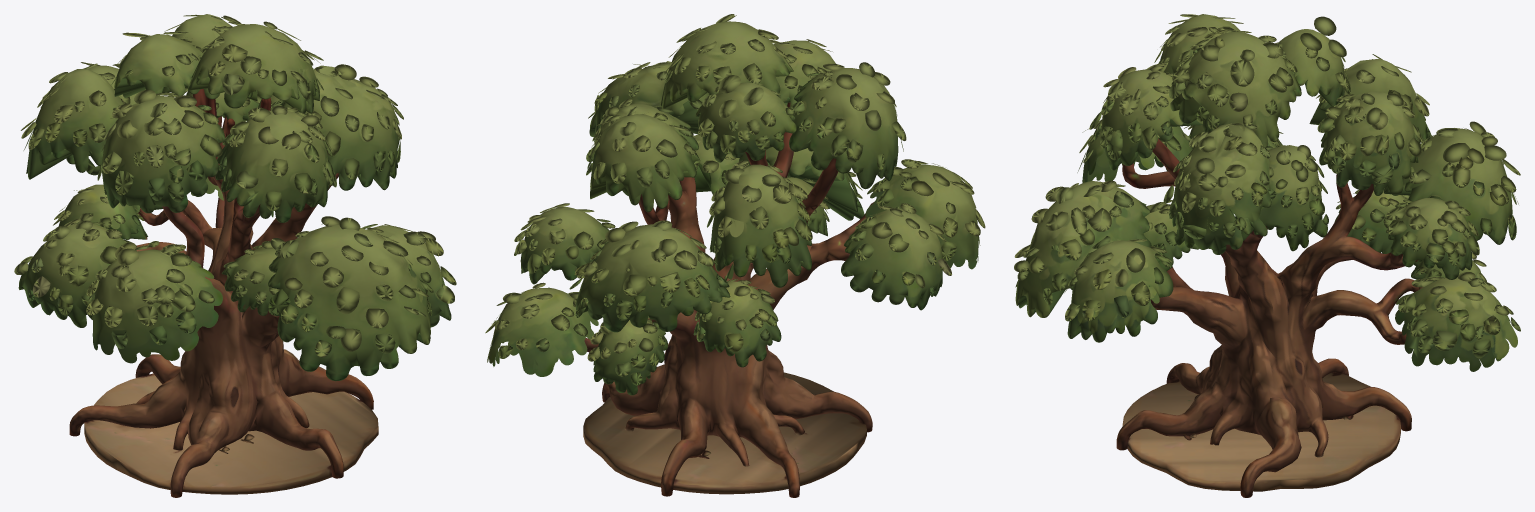
3 views of the same model, side by side, from view 1: azimuth 30°, elevation 25°; view 2: azimuth 150°, elevation 25°; view 3: azimuth 270°, elevation 25° (orthographic). The views are drawn at different scales.
Parts seen in each view (by area): view 1: tripo_node_eb97db24; view 2: tripo_node_eb97db24; view 3: tripo_node_eb97db24.
Part boxes in pixels (box(x1,y1,x2,y2)): tripo_node_eb97db24: box(14, 14, 456, 497); tripo_node_eb97db24: box(485, 14, 985, 497); tripo_node_eb97db24: box(1014, 14, 1520, 497).
Size of the model in its own units: 0.8081 by 0.8823 by 0.9995.
Materials: 1 (1 with a texture image).
